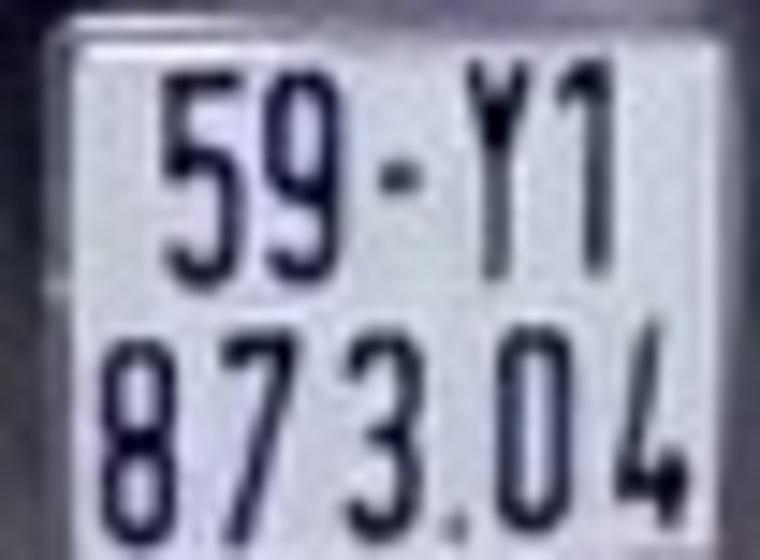-: (374, 152, 425, 197)
.: (438, 511, 475, 549)
0: (490, 319, 576, 537)
1: (550, 54, 622, 282)
3: (342, 327, 430, 544)
4: (610, 325, 696, 534)
5: (154, 72, 251, 297)
7: (214, 329, 304, 547)
8: (103, 336, 181, 549)
9: (259, 64, 352, 288)
Y: (458, 56, 534, 286)
